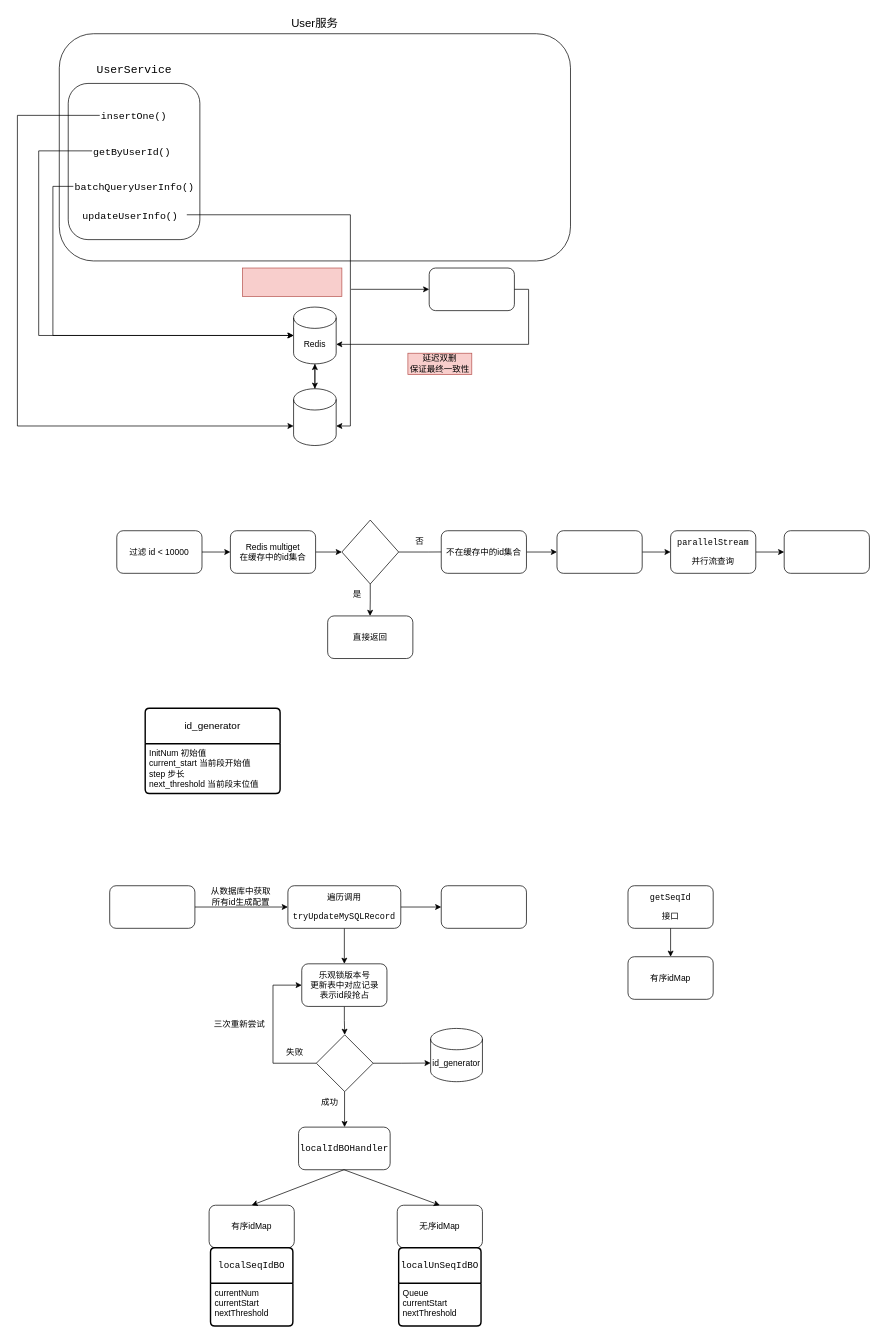
This 882x1338 diagram has some shape labels left out. The shapes that lost their labels are listed below. From the top down, each one's centre as x and y in pixels, then its label:
[292,281]: 更新数据库删除缓存； 读的时候构建缓存
[471,289]: RocketMQ消息队列
[314,417]: MySQL
[370,551]: 判断是否都在缓存中
[599,551]: 100分组取模
[826,551]: Redis设置过期时间
[152,906]: afterPropertiesSet() 启动服务
[483,906]: semaphoreMap
[344,1063]: 更新成功？
